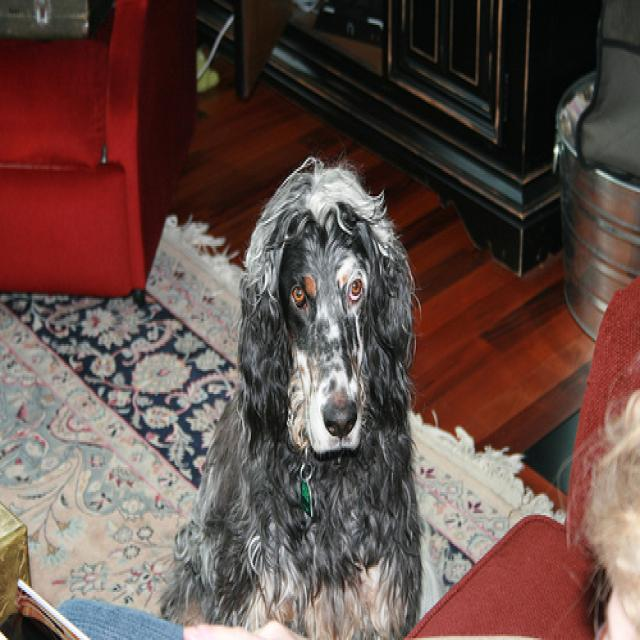dog-english_setter: (150, 148, 442, 636)
